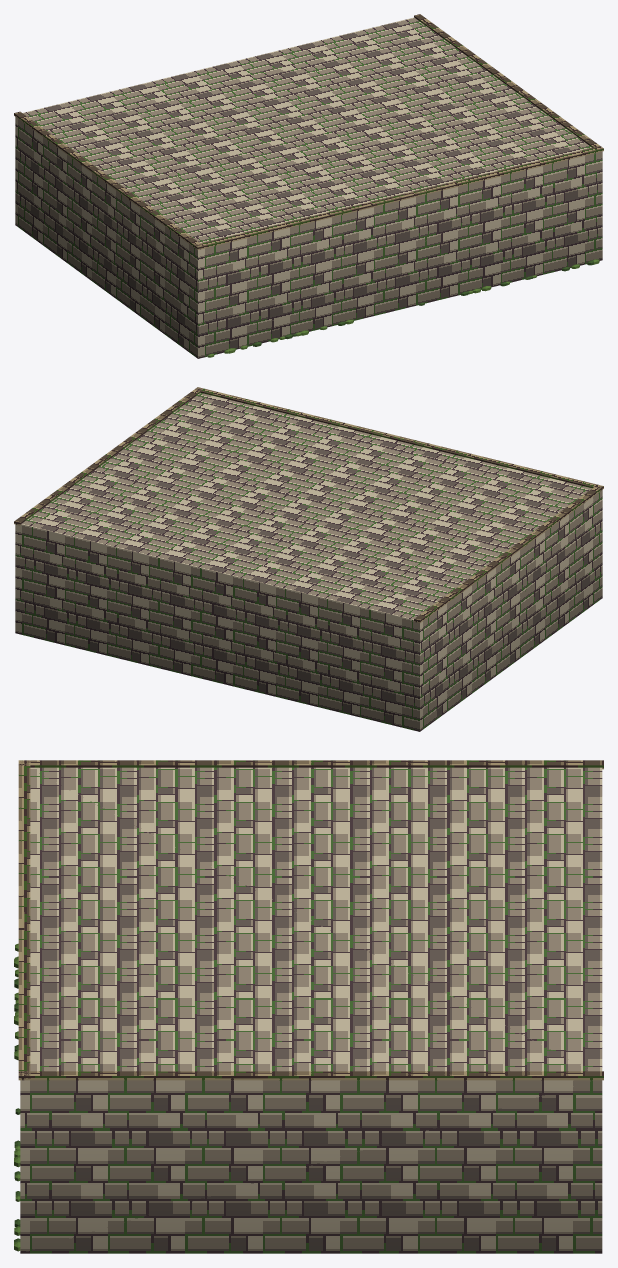
Rendered from scene_wall_w3.glb.
The picture shows the model from 3 angles, top to bottom: view 1: azimuth 30°, elevation 25°; view 2: azimuth 150°, elevation 25°; view 3: azimuth 270°, elevation 25°; orthographic projection. The views are drawn at different scales.
Parts seen in each view (by area): view 1: scene_wall_w3; view 2: scene_wall_w3; view 3: scene_wall_w3.
Boxes of the visible parts, x1,y1,x2,y2 form: scene_wall_w3: (14, 14, 603, 358); scene_wall_w3: (14, 387, 603, 731); scene_wall_w3: (14, 760, 603, 1253).
Bounding box in the file's own units: 23.1 × 6.17 × 18.24.
Materials: 2 (1 with a texture image).
